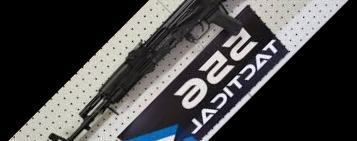larga: (48, 0, 243, 141)
